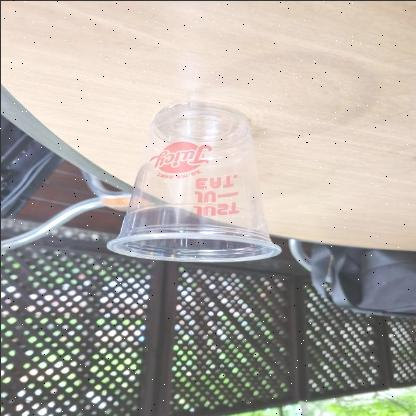Others: (102, 96, 288, 266)
